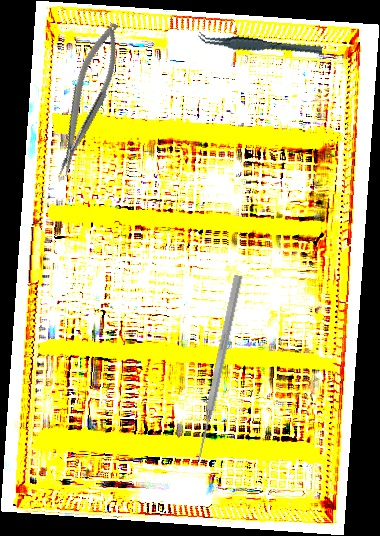Needle Holder: (42, 18, 132, 180)
Pusher: (192, 274, 245, 462)
Tissue Forceps: (197, 20, 323, 68)
